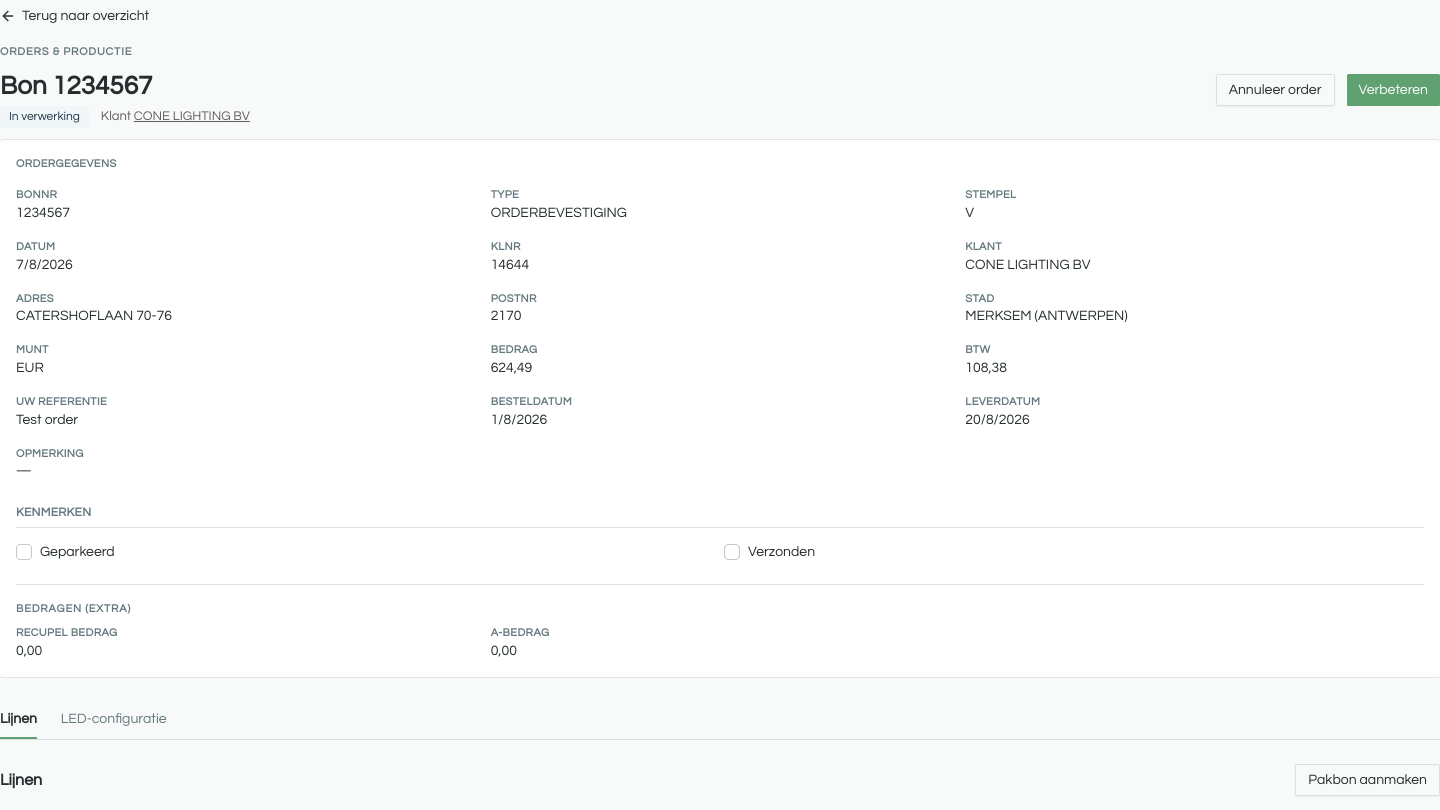
Scenario: BonDetailPage › annuleer order › cancels a V order: shows Open, zero amount, unchanged btw and reloaded lijnen, without router refresh
Click the button "Annuleer order": (1275, 90) [1216,74,1334,106]
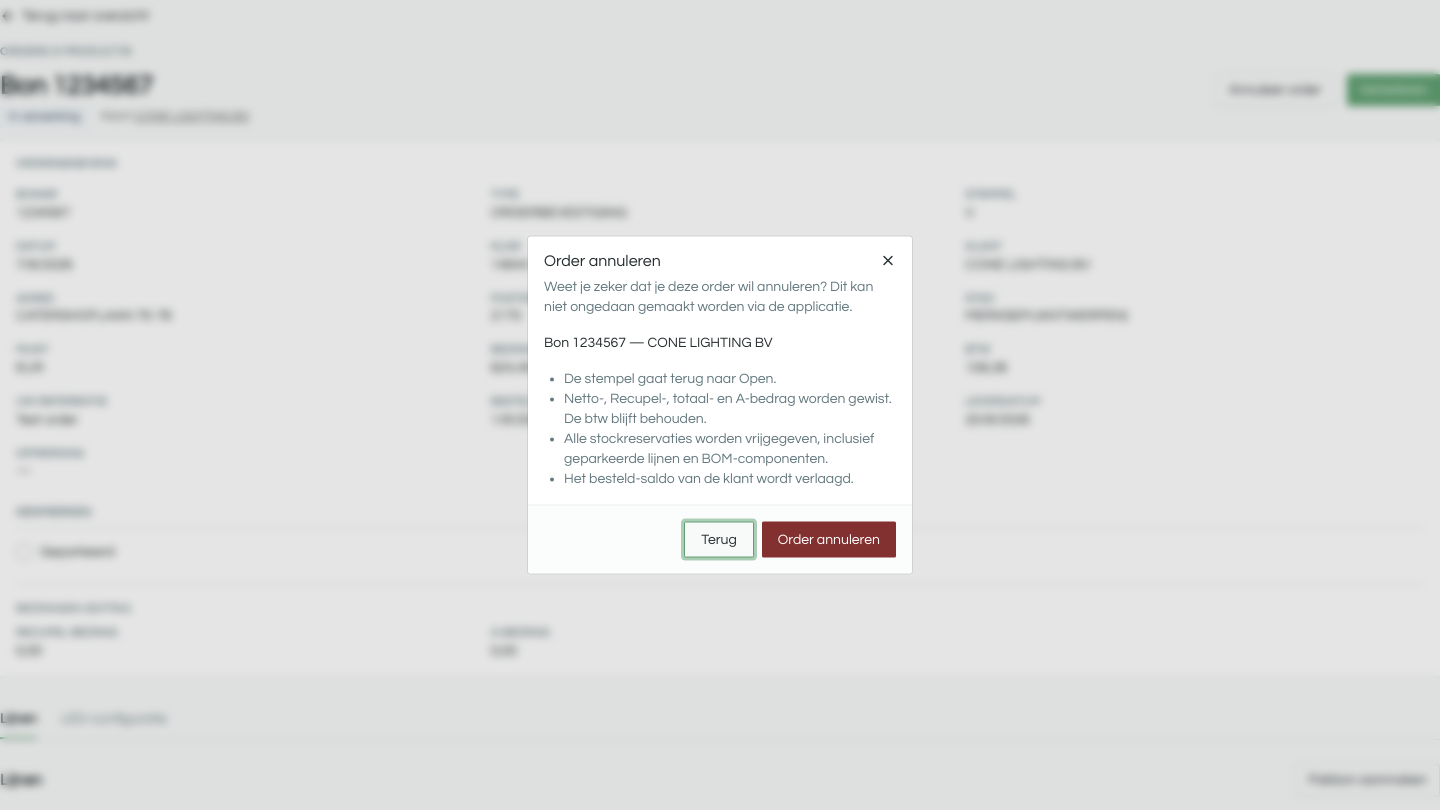
Click the button "Order annuleren": (829, 540) [762,522,896,558]
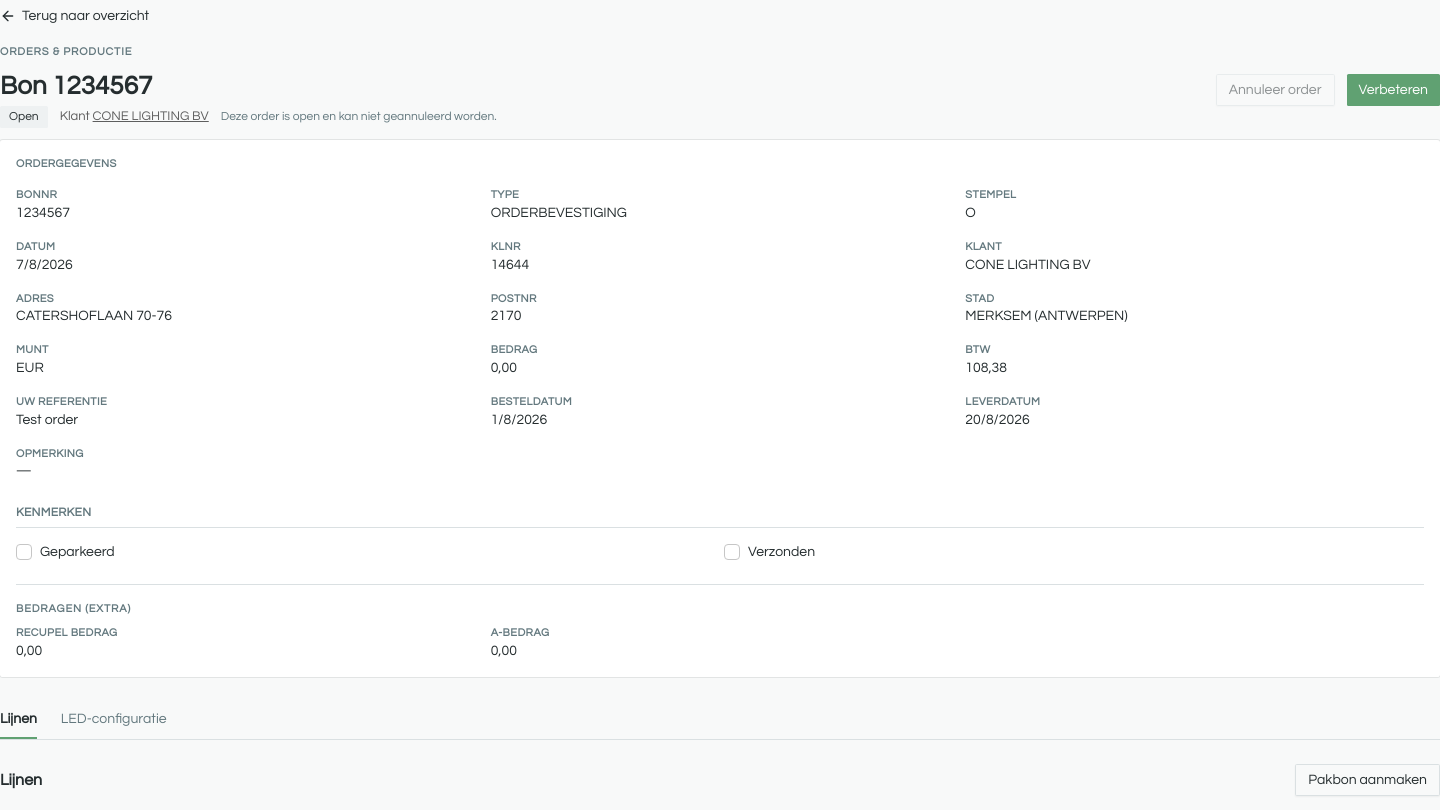
Expected: the text "Open" is shown, [0,106,48,128]
